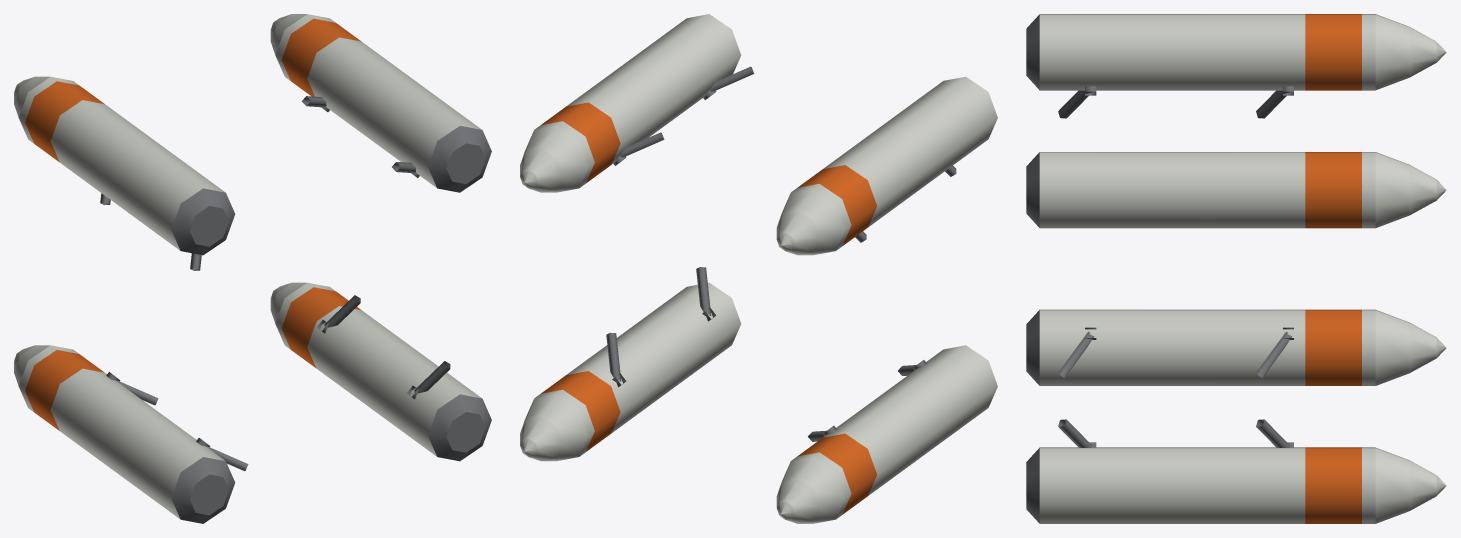
3 renders of one model, left to right at view 1: azimuth 30°, elevation 25°; view 2: azimuth 150°, elevation 25°; view 3: azimuth 270°, elevation 25°, orthographic. The views are drawn at different scales.
Parts seen in each view (by area): view 1: u73l_hx; view 2: u73l_hx; view 3: u73l_hx.
Boxes of the visible parts, x1=… form: u73l_hx: x1=14, y1=14, x2=491, y2=523; u73l_hx: x1=520, y1=14, x2=997, y2=523; u73l_hx: x1=1026, y1=14, x2=1446, y2=523.
Size of the model in its own units: 3.61 by 3.61 by 3.72.
